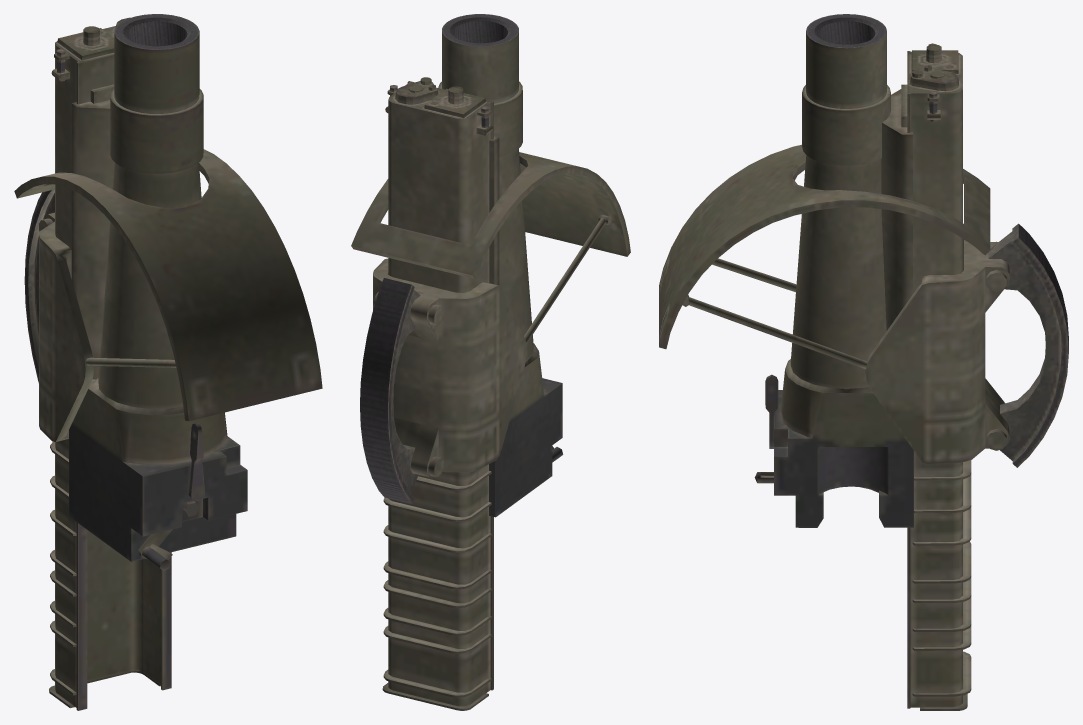
The model's file is Gun_04.glb.
3 views of the same model, side by side, from view 1: azimuth 30°, elevation 25°; view 2: azimuth 150°, elevation 25°; view 3: azimuth 270°, elevation 25° (orthographic). The views are drawn at different scales.
Visible parts, largest first — view 1: set_0_group_0; view 2: set_0_group_0; view 3: set_0_group_0.
Part boxes in pixels (bbox=[...]): set_0_group_0: bbox=[14, 14, 322, 710]; set_0_group_0: bbox=[351, 14, 630, 710]; set_0_group_0: bbox=[659, 14, 1068, 710].
Bounding box in the file's own units: 0.3855 × 1.91 × 1.08.
1 material, 1 textured.
